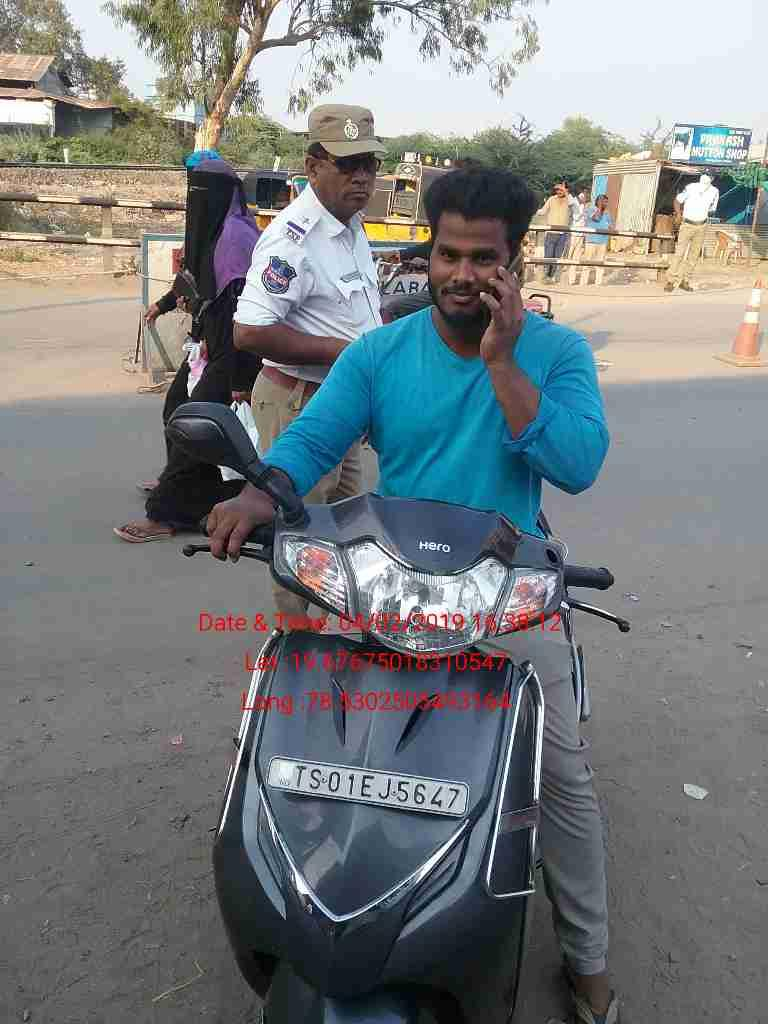plate: (263, 749, 475, 833)
